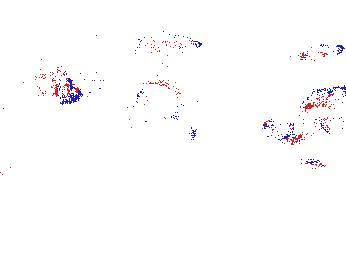X-ray fish: (18, 68, 85, 104), (134, 97, 173, 138), (71, 57, 107, 97)
red belly glassfish: (287, 156, 326, 171), (270, 132, 306, 148)
redtail glassfish: (301, 83, 346, 134), (127, 28, 202, 57), (260, 115, 337, 139), (299, 41, 346, 66)
